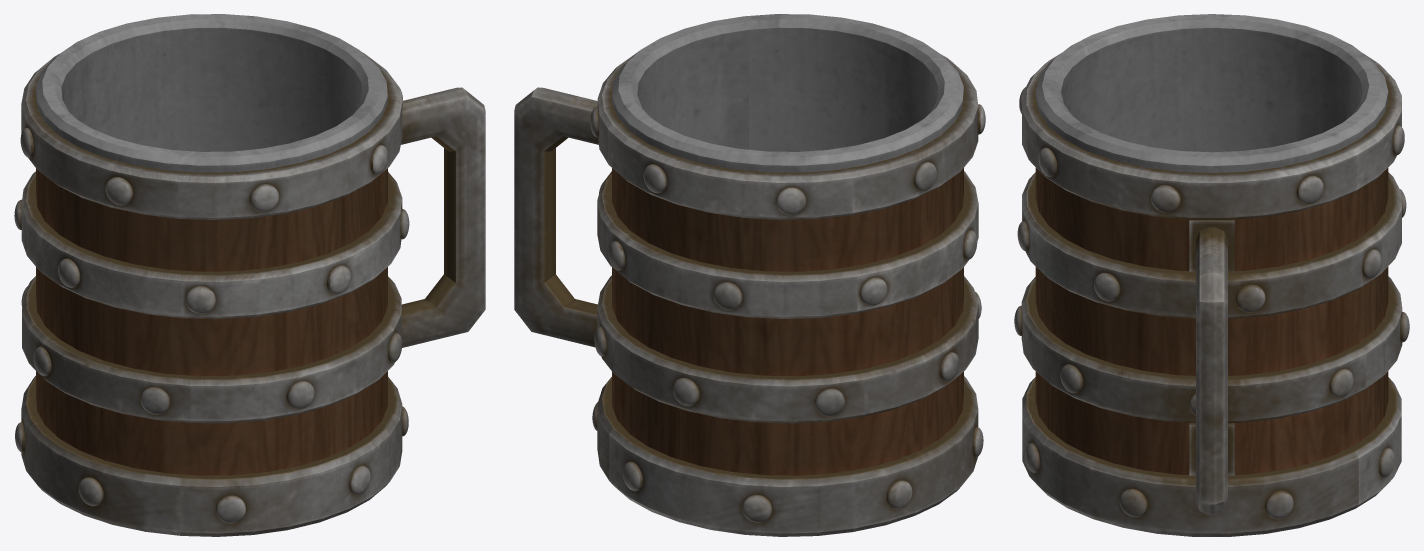
Rendered from iron_tankard.glb.
The picture shows the model from 3 angles, left to right: view 1: azimuth 30°, elevation 25°; view 2: azimuth 150°, elevation 25°; view 3: azimuth 270°, elevation 25°; orthographic projection.
Parts seen in each view (by area): view 1: IronTankard; view 2: IronTankard; view 3: IronTankard.
Part boxes in pixels (x1,y1,x2,y2): IronTankard: (14,14,485,536); IronTankard: (514,14,985,536); IronTankard: (1014,14,1409,536).
Bounding box in the file's own units: 0.2955 × 0.24 × 0.2288.
Materials: 1 (1 with a texture image).
